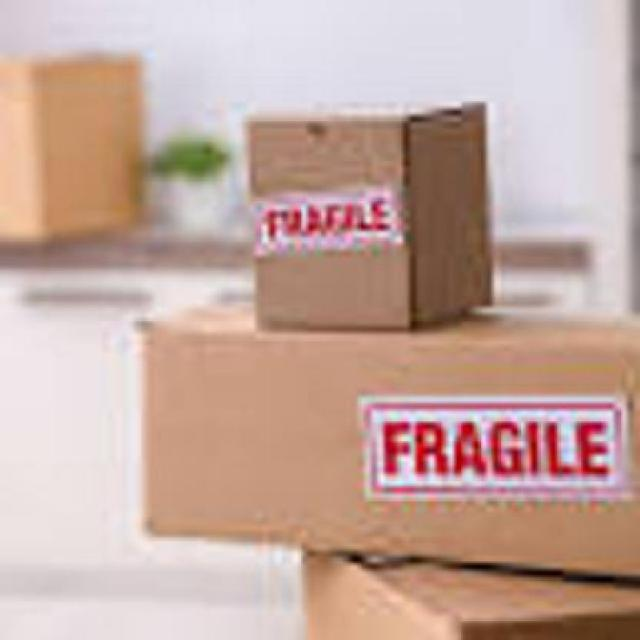normal: (134, 300, 640, 580), (237, 102, 505, 330)
